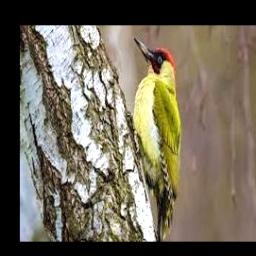Woodpecker: (125, 37, 182, 242)
